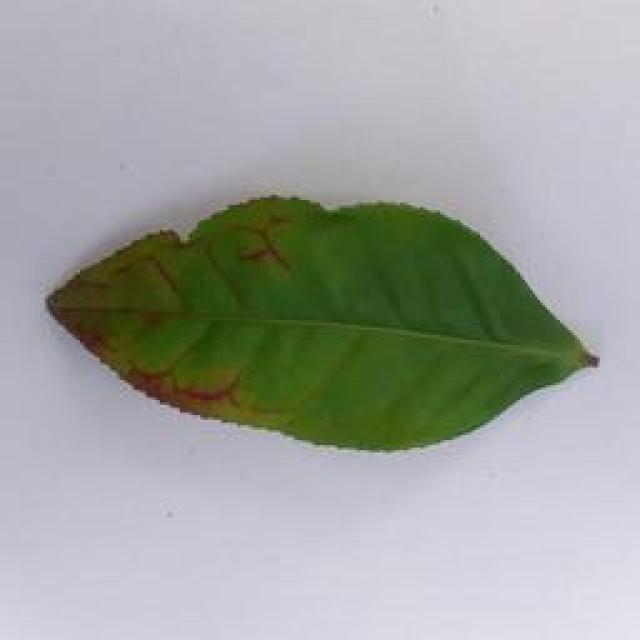Red Leaf Spot: (41, 167, 609, 457)
